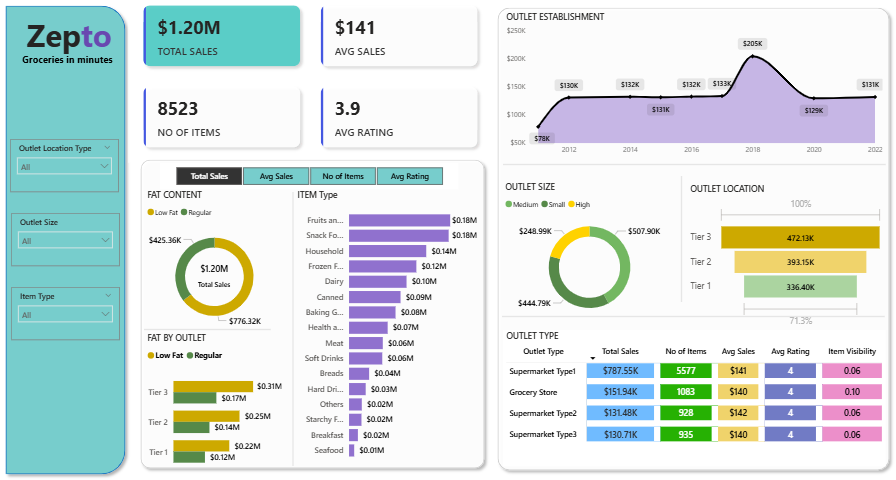

The page's visual inventory and layout, read from the dashboard file:
{"tool":"powerbi","page":{"name":"Page 1","canvas":[1400,800],"ordinal":0},"visuals":[{"type":"shape","box":[0,15.6,204.7,750],"z":0},{"type":"textbox","box":[23.4,32.8,168.8,76.6],"z":1000},{"type":"textbox","box":[18.8,93.8,173.4,31.2],"z":2000},{"type":"cardVisual","fields":{"Data":["Zepto Grocery Data.Total Sales","Zepto Grocery Data.Avg Sales","Zepto Grocery Data.No of Items","Zepto Grocery Data.Avg Rating"]},"box":[200,0,570,270],"z":3000},{"type":"shape","box":[210.9,256.2,554.7,500],"z":4000},{"type":"donutChart","title":"FAT CONTENT","fields":{"Y":["Zepto Grocery Data.Total Sales"],"Category":["Zepto Grocery Data.Item Fat Content"]},"box":[225,310.9,220,230],"z":5000},{"type":"slicer","fields":{"Values":["Metrics.Metrics"]},"box":[250,270.3,465.6,40.6],"z":6000},{"type":"cardVisual","fields":{"Data":["Zepto Grocery Data.Total Sales"]},"box":[271.9,406.2,125,81.2],"z":7000},{"type":"clusteredBarChart","title":"FAT BY OUTLET","fields":{"Y":["Zepto Grocery Data.Total Sales"],"Category":["Zepto Grocery Data.Outlet Location Type"],"Series":["Zepto Grocery Data.Item Fat Content"]},"box":[225,534.4,220.3,229.7],"z":8000},{"type":"shape","box":[225,514.1,198.4,32.8],"z":9000},{"type":"shape","box":[451.6,315.6,12.5,428.1],"z":10000},{"type":"barChart","title":"ITEM Type","fields":{"Y":["Zepto Grocery Data.Total Sales"],"Category":["Zepto Grocery Data.Item Type"]},"box":[459.4,310.9,290.6,432.8],"z":11000},{"type":"shape","box":[768.8,18.8,629.7,740.6],"z":12000},{"type":"lineChart","title":"OUTLET ESTABLISHMENT","fields":{"Category":["Zepto Grocery Data.Outlet Establishment Year"],"Y":["Zepto Grocery Data.Total Sales"]},"box":[785.9,32.8,598.4,234.4],"z":13000},{"type":"shape","box":[785.9,260.9,598.4,23.4],"z":14000},{"type":"donutChart","title":"OUTLET SIZE ","fields":{"Y":["Zepto Grocery Data.Total Sales"],"Category":["Zepto Grocery Data.Outlet Size"]},"box":[784.4,298.4,273.4,225],"z":15000},{"type":"shape","box":[1056.2,290.6,17.2,196.9],"z":16000},{"type":"funnel","title":"OUTLET LOCATION","fields":{"Y":["Sum(Zepto Grocery Data.Sales)"],"Category":["Zepto Grocery Data.Outlet Location Type"]},"box":[1073.4,301,310.9,229.7],"z":17000},{"type":"shape","box":[784.4,498.4,598.4,23.4],"z":18000},{"type":"pivotTable","title":"OUTLET TYPE","fields":{"Rows":["Zepto Grocery Data.Outlet Type"],"Values":["Zepto Grocery Data.Total Sales","Zepto Grocery Data.No of Items","Zepto Grocery Data.Avg Sales","Zepto Grocery Data.Avg Rating","Avg(Zepto Grocery Data.Item Visibility)"]},"box":[785.9,531.2,598.4,212.5],"z":19000},{"type":"slicer","fields":{"Values":["Zepto Grocery Data.Outlet Location Type"]},"box":[15.6,232.8,170.3,82.8],"z":20000},{"type":"slicer","fields":{"Values":["Zepto Grocery Data.Outlet Size"]},"box":[17.2,348.4,170.3,82.8],"z":21000},{"type":"slicer","fields":{"Values":["Zepto Grocery Data.Item Type"]},"box":[17.2,464.1,170.3,82.8],"z":22000}]}

Visuals, with their boxes on the page's 1400x800 design canvas (x1, y1, x2, y2). These are canvas units, not pixel positions in the 896x480 screenshot, which may show the page scaled, cropped or inside an application window:
shape: [0,16,205,766]
textbox: [23,33,192,109]
textbox: [19,94,192,125]
cardVisual - Zepto Grocery Data.Total Sales x Zepto Grocery Data.Avg Sales: [200,0,770,270]
shape: [211,256,766,756]
"FAT CONTENT" donutChart: [225,311,445,541]
slicer - Metrics.Metrics: [250,270,716,311]
cardVisual - Zepto Grocery Data.Total Sales: [272,406,397,487]
"FAT BY OUTLET" clusteredBarChart: [225,534,445,764]
shape: [225,514,423,547]
shape: [452,316,464,744]
"ITEM Type" barChart: [459,311,750,744]
shape: [769,19,1398,759]
"OUTLET ESTABLISHMENT" lineChart: [786,33,1384,267]
shape: [786,261,1384,284]
"OUTLET SIZE " donutChart: [784,298,1058,523]
shape: [1056,291,1073,488]
"OUTLET LOCATION" funnel: [1073,301,1384,531]
shape: [784,498,1383,522]
"OUTLET TYPE" pivotTable: [786,531,1384,744]
slicer - Zepto Grocery Data.Outlet Location Type: [16,233,186,316]
slicer - Zepto Grocery Data.Outlet Size: [17,348,188,431]
slicer - Zepto Grocery Data.Item Type: [17,464,188,547]
